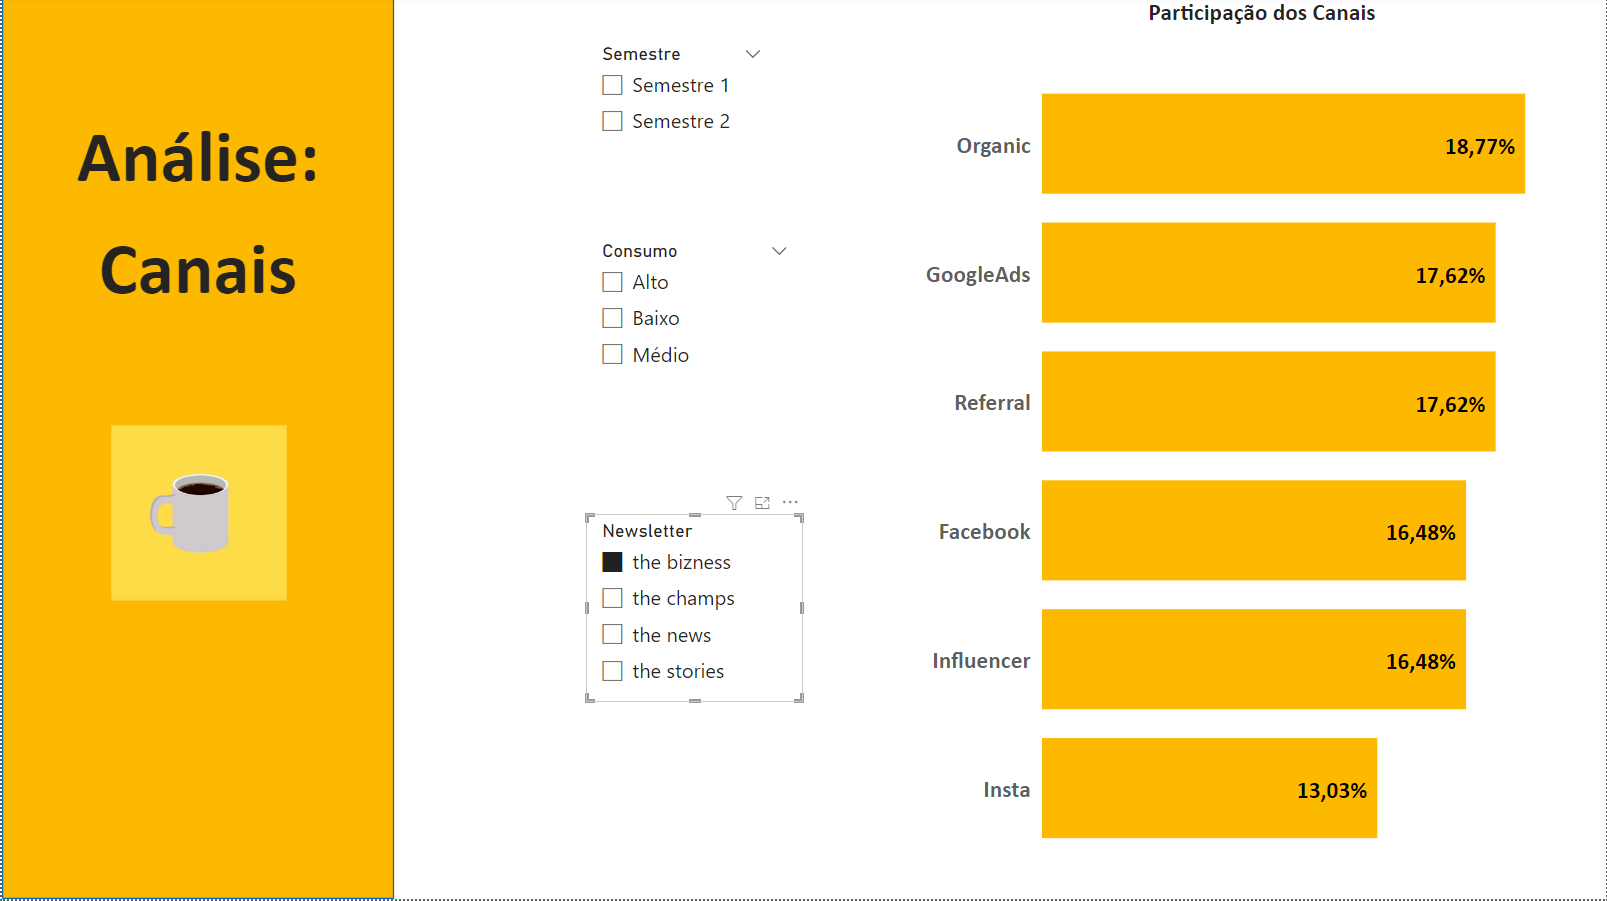

What the dashboard file says about the page in this screenshot:
{"tool":"powerbi","page":{"name":"Canais","canvas":[1280,720],"ordinal":0},"visuals":[{"type":"clusteredBarChart","title":"Participação dos Canais","fields":{"Category":["dados_limpos.entryChannel"],"Y":["CountNonNull(dados_limpos.codigo)"]},"box":[731,0,549.3,720],"z":0},{"type":"slicer","title":"Coversões por Newsletter por Canal","fields":{"Values":["dados_limpos.Newsletter"]},"box":[466.5,412.4,173.2,150.4],"z":1000},{"type":"slicer","fields":{"Values":["dados_limpos.Semestre"]},"box":[466.5,32.1,152.1,108.2],"z":2000},{"type":"slicer","fields":{"Values":["dados_limpos.Consumo"]},"box":[466.5,189.3,173.2,147],"z":3000},{"type":"shape","box":[0,0,312.7,720],"z":3500},{"type":"textbox","box":[0,86.3,313.1,206.1],"z":4000},{"type":"card","title":"Leitores","fields":{"Values":["CountNonNull(dados_limpos.codigo)"]},"box":[0,340.7,313.1,143.2],"z":6000},{"type":"image","box":[81.1,487.6,150.4,206.2],"z":6001}]}

Visuals, with their boxes in screenshot pixels (x1, y1, x2, y2), scaled from the page's 1280x720 canvas onto the 1607x901 screenshot:
"Participação dos Canais" clusteredBarChart: (x1=918, y1=0, x2=1606, y2=900)
"Coversões por Newsletter por Canal" slicer: (x1=586, y1=516, x2=803, y2=704)
slicer - dados_limpos.Semestre: (x1=586, y1=40, x2=777, y2=176)
slicer - dados_limpos.Consumo: (x1=586, y1=237, x2=803, y2=421)
shape: (x1=0, y1=0, x2=393, y2=900)
textbox: (x1=0, y1=108, x2=393, y2=366)
"Leitores" card: (x1=0, y1=426, x2=393, y2=606)
image: (x1=102, y1=610, x2=291, y2=868)
